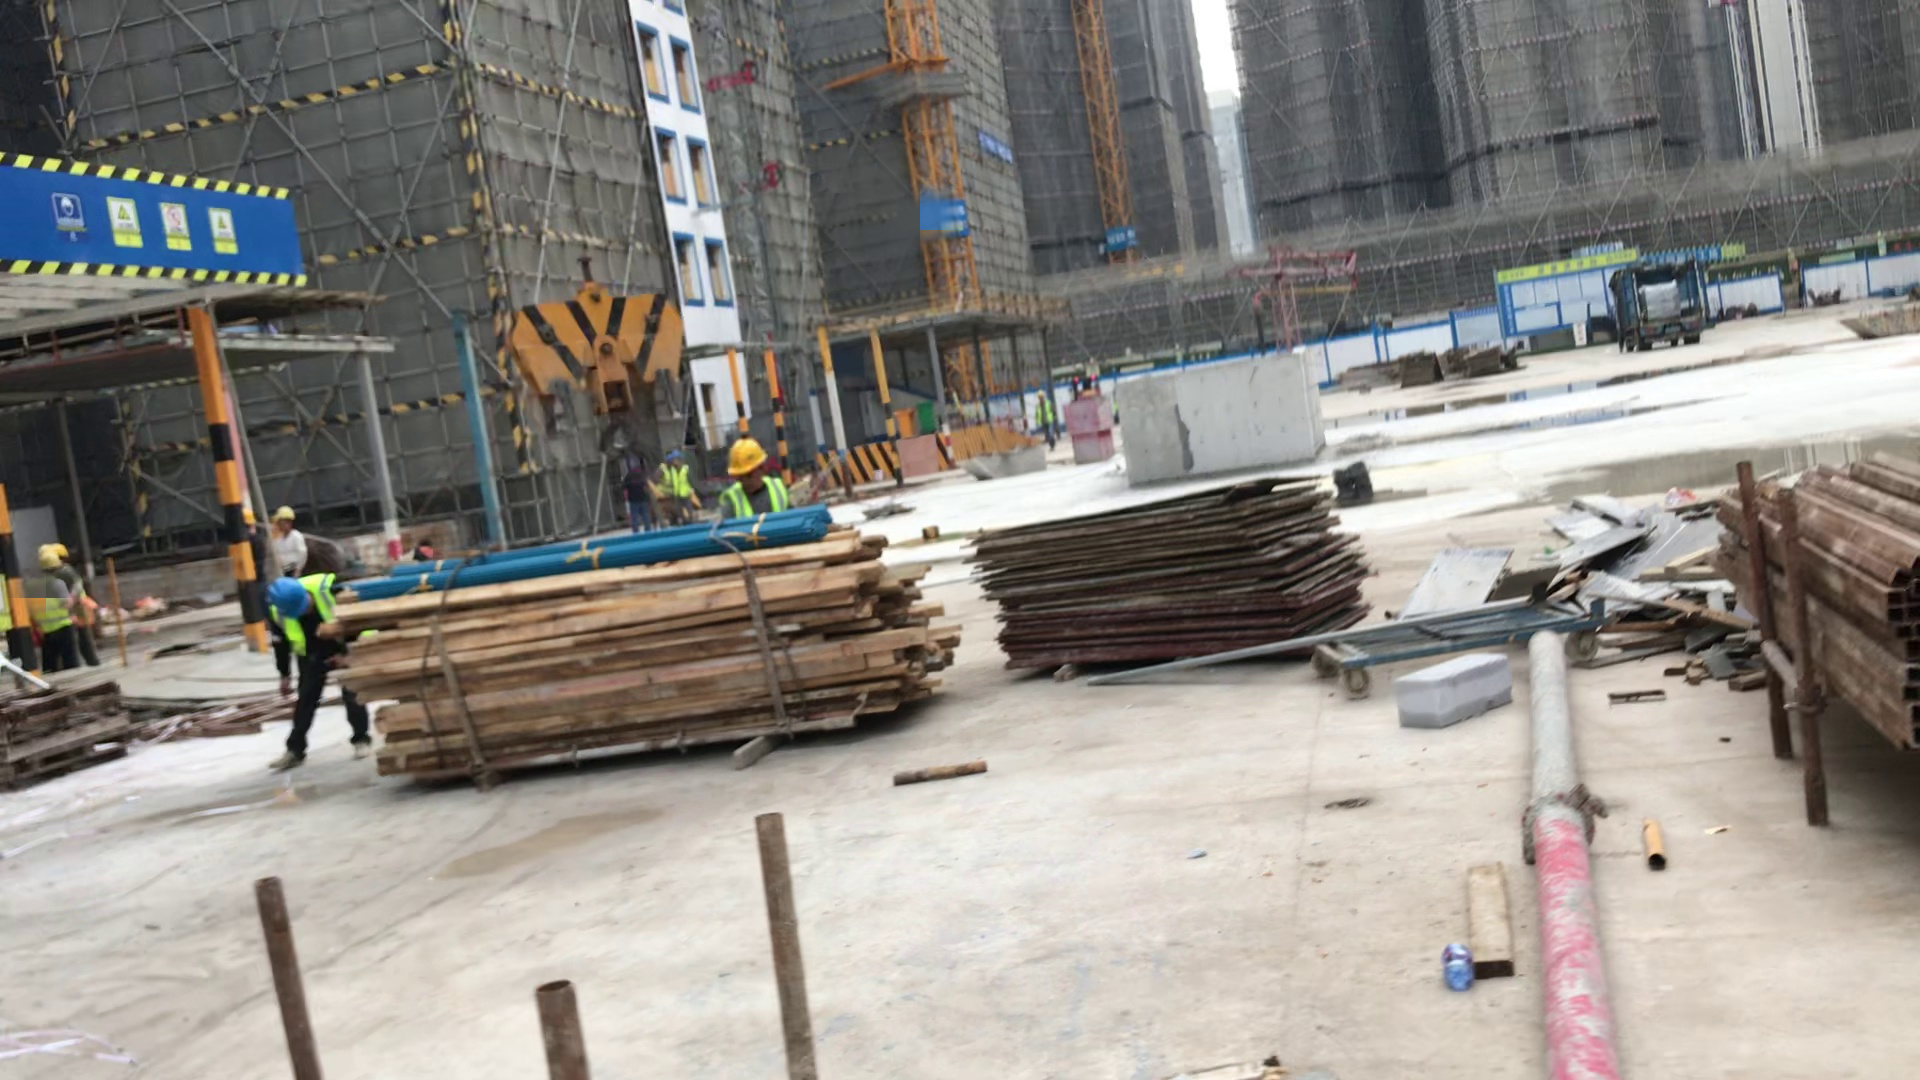board: (986, 484, 1363, 653)
ebox: (889, 404, 913, 435)
helmet: (266, 578, 310, 619), (728, 438, 768, 477), (38, 552, 63, 571), (273, 507, 295, 522)
hook: (511, 254, 688, 462)
hopper: (1844, 306, 1920, 340), (958, 450, 1047, 479)
person: (261, 576, 371, 768), (31, 552, 78, 674), (720, 442, 789, 514), (273, 506, 306, 577), (622, 461, 653, 536), (667, 450, 694, 527), (1035, 391, 1058, 454)
scaffold: (1731, 464, 1920, 743)
slogan: (54, 192, 233, 247), (983, 137, 1012, 165)
vest: (273, 577, 338, 647), (728, 481, 783, 518), (33, 583, 70, 634), (671, 462, 689, 500), (1039, 403, 1049, 424)
wood: (346, 577, 958, 737)
